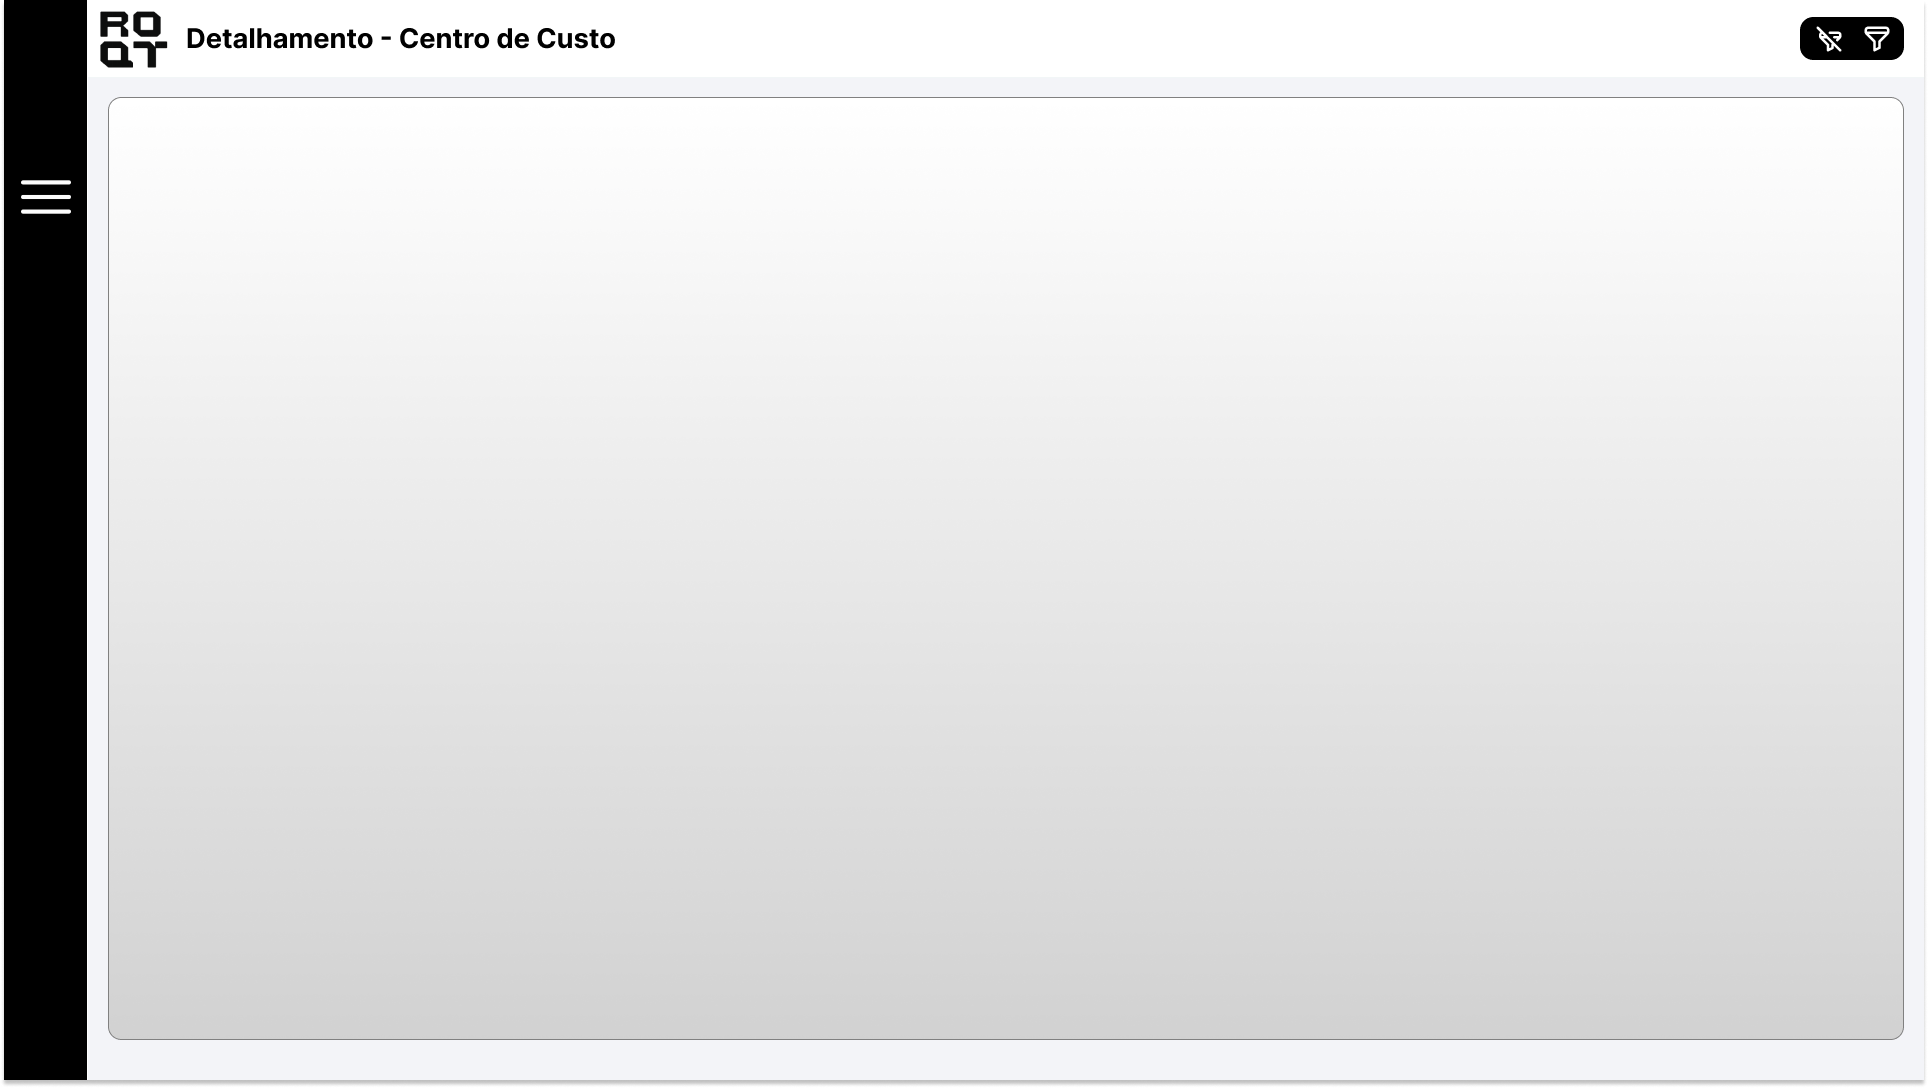

This screenshot's page, from the dashboard's own definition file:
{"tool":"powerbi","page":{"name":"Det. Centro de Custo","canvas":[1280,720],"ordinal":5},"visuals":[{"type":"group","id":"g1","title":"Geral","box":[0,11,1265.6,676.6],"z":0},{"type":"pivotTable","fields":{"Rows":["d_Plano_de_Contas.Categoria","d_Centro_de_Custo.Departamento","d_Centro_de_Custo.Nome","d_Centro_de_Custo.Gestor"],"Values":["Medidas.m_resultado_dre","Medidas.m_resultado_M_1","Medidas.m_seta_variacao_m1","Medidas.m_resultado_m_12","Medidas.m_seta_variacao_m12","Medidas.m_acumulado_ano","Medidas.m_acumulado_ano_anterior","Medidas.m_seta_acumulado"]},"box":[72,64.4,1193.6,623.2],"z":0,"group":"g1"},{"type":"actionButton","title":"botao - menu lateral","box":[0,110,57.5,40],"z":1000,"group":"g1"},{"type":"actionButton","title":"botao - limpa filtros","box":[1198.9,11.1,30,27.8],"z":2000,"group":"g1"},{"type":"actionButton","title":"botao - filtros","box":[1229,11,30,28],"z":3000,"group":"g1"}]}

Visuals, with their boxes on the page's 1280x720 design canvas (x1, y1, x2, y2). These are canvas units, not pixel positions in the 1928x1088 screenshot, which may show the page scaled, cropped or inside an application window:
"Geral" group: 0/11/1266/688
pivotTable - d_Plano_de_Contas.Categoria x d_Centro_de_Custo.Departamento: 72/64/1266/688
"botao - menu lateral" actionButton: 0/110/58/150
"botao - limpa filtros" actionButton: 1199/11/1229/39
"botao - filtros" actionButton: 1229/11/1259/39
